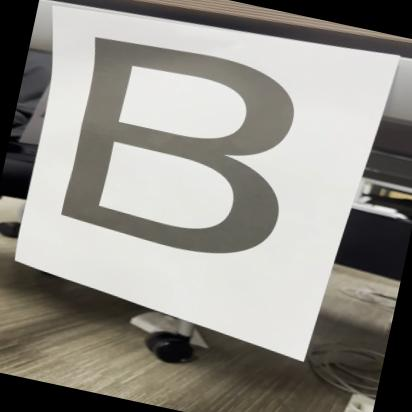seat: (45, 25, 316, 279)
